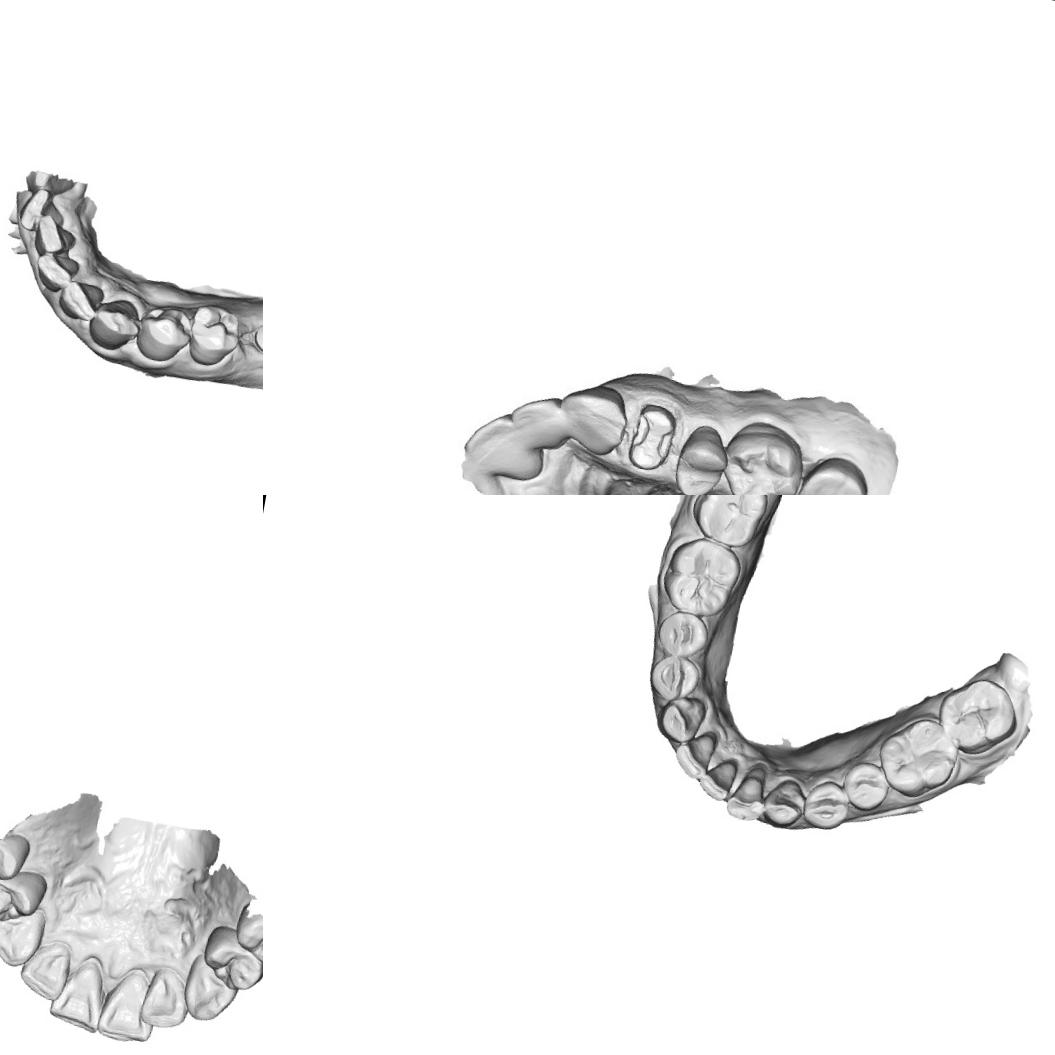canine: (553, 378, 632, 458), (178, 950, 243, 1026), (82, 290, 150, 356), (0, 900, 47, 972), (761, 773, 813, 834), (655, 693, 712, 748)
crown: (621, 398, 684, 476)
implant: (248, 315, 263, 361)
incisor: (460, 406, 548, 482), (94, 963, 162, 1046), (44, 954, 110, 1034), (14, 935, 75, 1004), (135, 962, 194, 1032), (503, 390, 565, 452), (722, 756, 772, 826), (51, 272, 111, 328), (12, 182, 70, 238), (668, 727, 722, 784), (692, 750, 744, 808), (28, 246, 86, 297), (28, 210, 81, 259)
molar: (869, 710, 967, 806), (930, 670, 1022, 760), (719, 418, 810, 495), (659, 534, 742, 618), (687, 495, 772, 550), (785, 448, 872, 495)
premolar: (196, 921, 263, 995), (130, 295, 198, 367), (669, 419, 732, 495), (182, 297, 243, 373), (651, 606, 714, 664), (0, 861, 51, 929), (834, 756, 891, 816), (644, 649, 702, 707), (800, 776, 852, 834), (0, 821, 32, 890), (229, 908, 263, 971)
